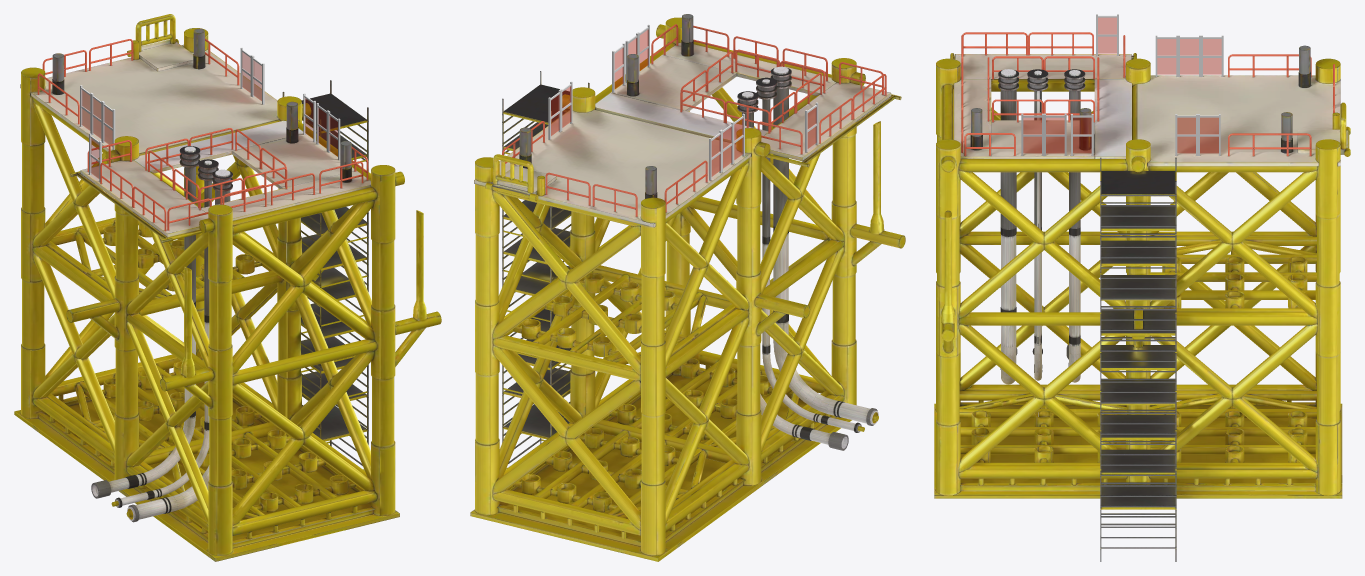
The model's file is bp-jacket-opt-1.glb.
The picture shows the model from 3 angles, left to right: view 1: azimuth 30°, elevation 25°; view 2: azimuth 150°, elevation 25°; view 3: azimuth 270°, elevation 25°; orthographic projection.
Visible parts, largest first — view 1: MAIN PIPE.002, STAIRS.001, WHITE PIPE.001, FENCE_v1.001, GLASS.001; view 2: MAIN PIPE.002, WHITE PIPE.001, STAIRS.001, FENCE_v1.001, GLASS.001; view 3: MAIN PIPE.002, STAIRS.001, GLASS.001, WHITE PIPE.001, FENCE_v1.001.
Boxes of the visible parts, <box> form: MAIN PIPE.002: <box>14,14,441,561</box>; STAIRS.001: <box>282,80,368,470</box>; WHITE PIPE.001: <box>91,146,232,522</box>; FENCE_v1.001: <box>37,38,368,231</box>; GLASS.001: <box>80,47,340,182</box>; MAIN PIPE.002: <box>470,14,905,561</box>; WHITE PIPE.001: <box>737,66,878,450</box>; STAIRS.001: <box>502,71,589,468</box>; FENCE_v1.001: <box>502,24,886,216</box>; GLASS.001: <box>548,24,818,180</box>; MAIN PIPE.002: <box>934,45,1350,498</box>; STAIRS.001: <box>1100,157,1176,561</box>; GLASS.001: <box>1021,14,1223,155</box>; WHITE PIPE.001: <box>998,69,1085,384</box>; FENCE_v1.001: <box>961,32,1334,156</box>.
Size of the model in its own units: 8.8 by 11.98 by 10.92.
7 materials, 4 textured.
